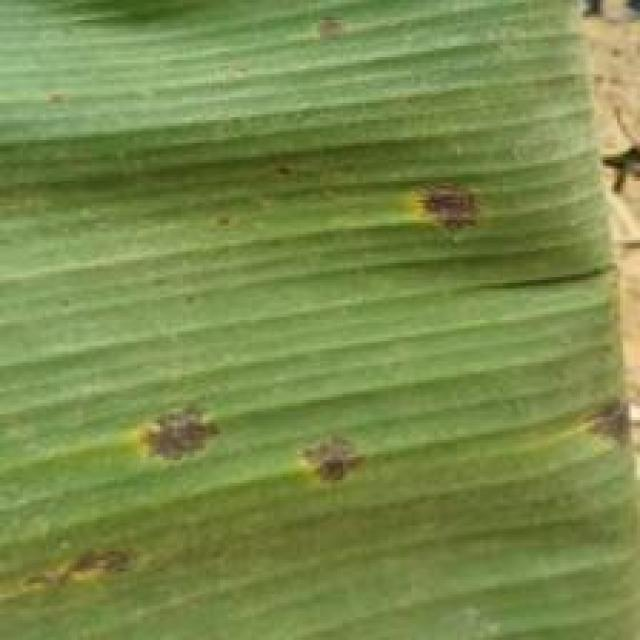Downey_mildrew: (383, 172, 522, 282), (21, 534, 162, 624), (289, 412, 380, 504), (126, 396, 224, 481), (562, 390, 640, 469), (296, 5, 367, 56)
